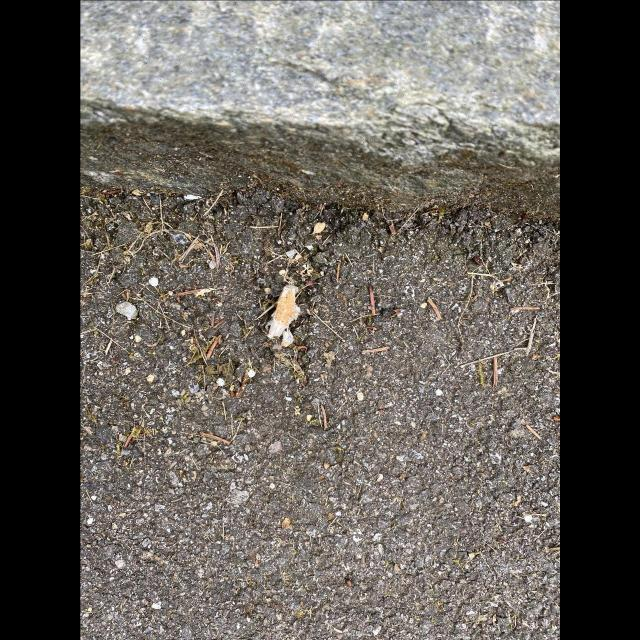cigarette: (266, 284, 300, 347)
